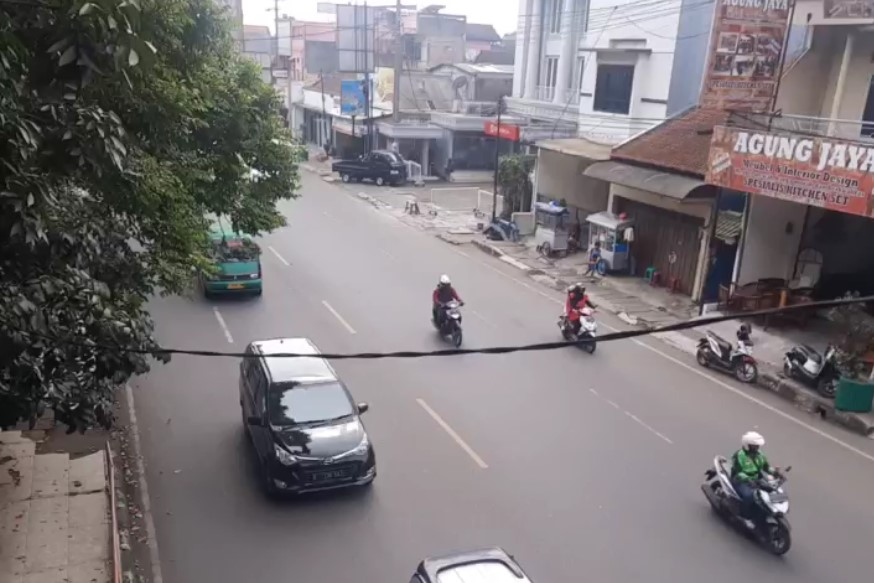mobil: (231, 336, 383, 500)
motor: (702, 430, 797, 559), (422, 273, 470, 348), (557, 282, 599, 357)
